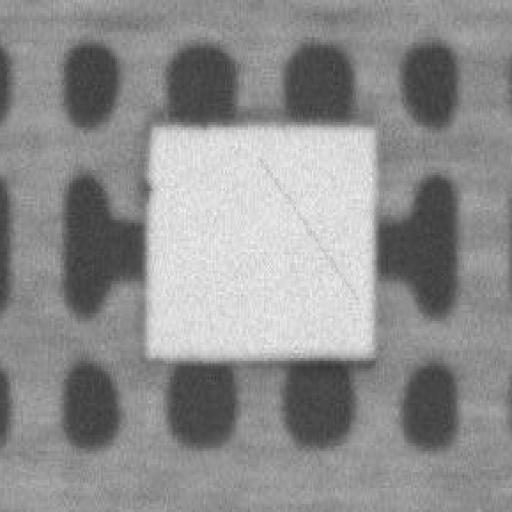DIE_CRACK: (388, 104, 512, 198)
